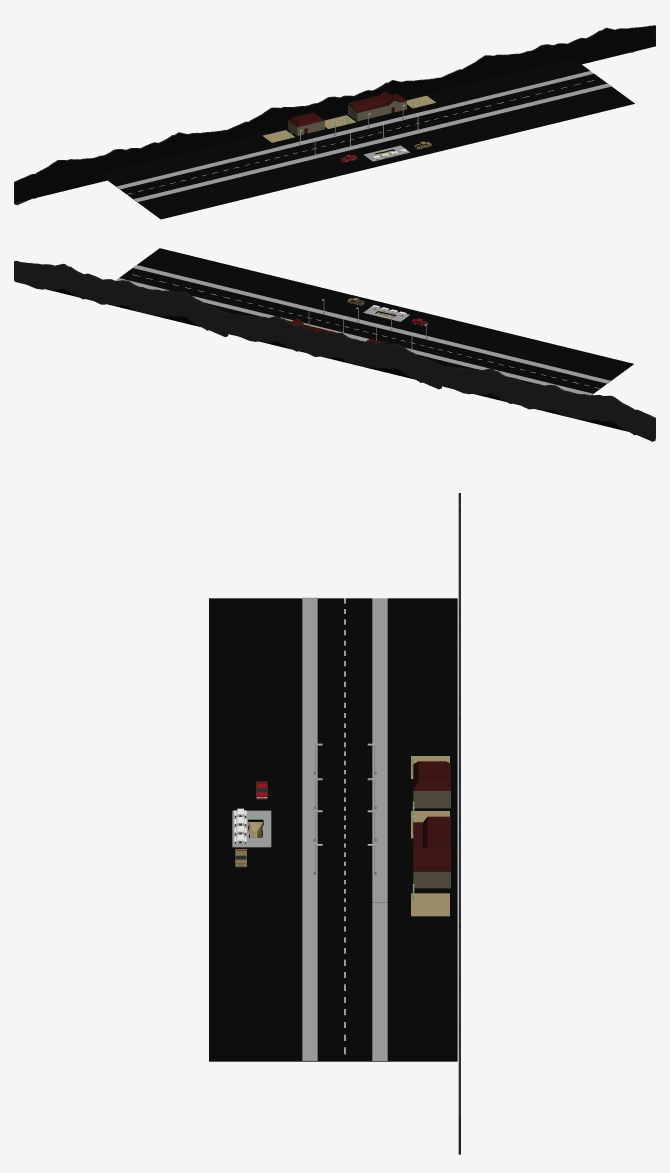
The model's file is AerialEnvironment.glb.
3 views of the same model, one above another, from view 1: azimuth 30°, elevation 25°; view 2: azimuth 150°, elevation 25°; view 3: azimuth 270°, elevation 25° (orthographic). The views are drawn at different scales.
Parts seen in each view (by area): view 1: Environment, mountain_background_black.002, mountain_background_black.001, mountain_background_black, Cube.005, Cube.006, Cube.029; view 2: Environment, Cube.029, Cube.027, Cube.028, mountain_background_black.002, mountain_background_black, mountain_background_black.001; view 3: Environment, Cube.005, Cube.006.
Part boxes in pixels (box(x1,y1,x2,y2)): Environment: box(99, 58, 634, 219); mountain_background_black.002: box(15, 130, 228, 202); mountain_background_black.001: box(442, 25, 655, 89); mountain_background_black: box(228, 77, 442, 141); Cube.005: box(348, 91, 406, 121); Cube.006: box(288, 112, 324, 135); Cube.029: box(14, 129, 227, 205); Environment: box(115, 248, 633, 395); Cube.029: box(441, 366, 655, 441); Cube.027: box(227, 314, 441, 389); Cube.028: box(14, 261, 228, 336); mountain_background_black.002: box(442, 365, 655, 438); mountain_background_black: box(228, 313, 442, 385); mountain_background_black.001: box(14, 261, 228, 326); Environment: box(209, 597, 457, 1061); Cube.005: box(413, 816, 450, 888); Cube.006: box(413, 761, 450, 808).
Bounding box in the file's own units: 301 × 15.9 × 51.15.
13 materials, 1 textured.
